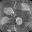people: (4, 6, 15, 17), (0, 17, 12, 26), (16, 17, 22, 26)
